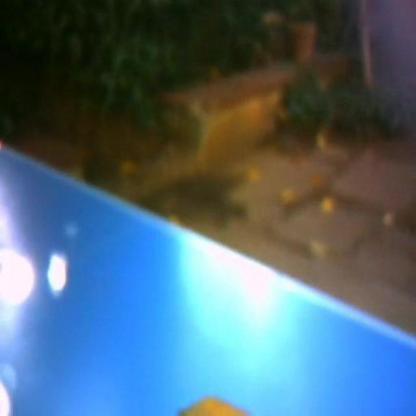other: (0, 222, 50, 405)
